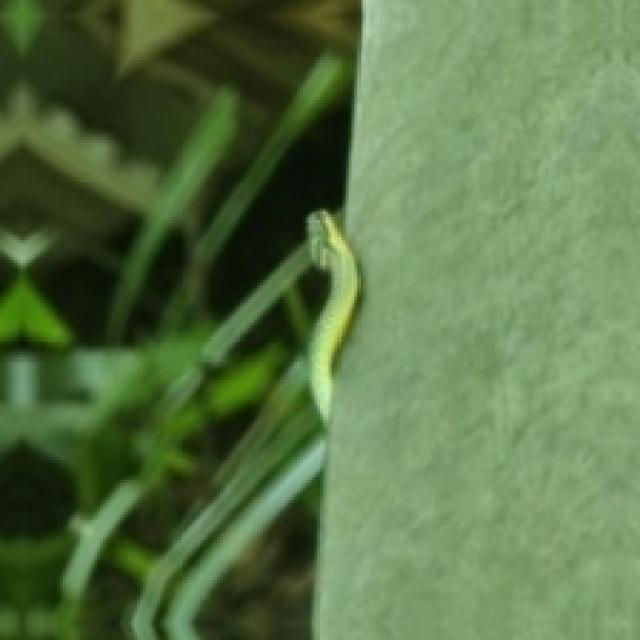paradise tree snake: (131, 211, 357, 637), (306, 209, 357, 420)
